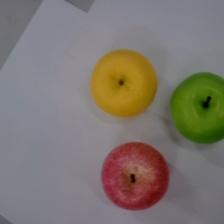green: (157, 73, 224, 141)
red: (101, 142, 170, 211)
yellow: (91, 50, 158, 117)
